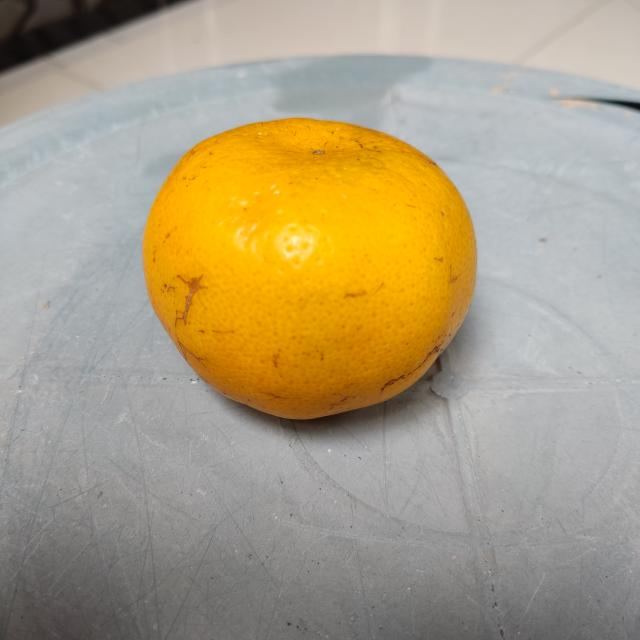orange: (139, 113, 483, 428)
